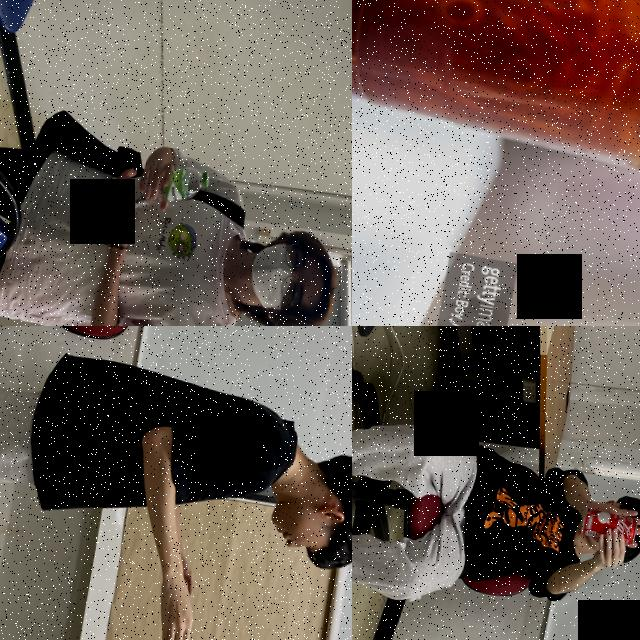bottle: (118, 154, 212, 226)
can: (577, 506, 638, 547)
cup: (352, 0, 640, 212)
